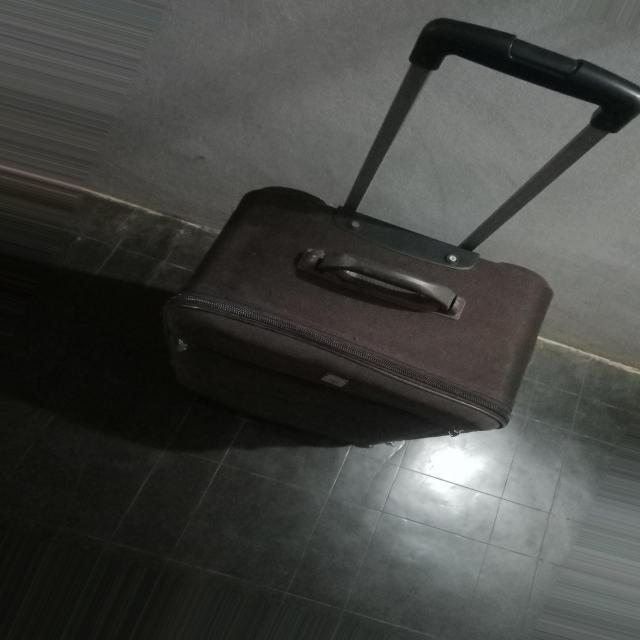Suitcase: (147, 0, 640, 446)
